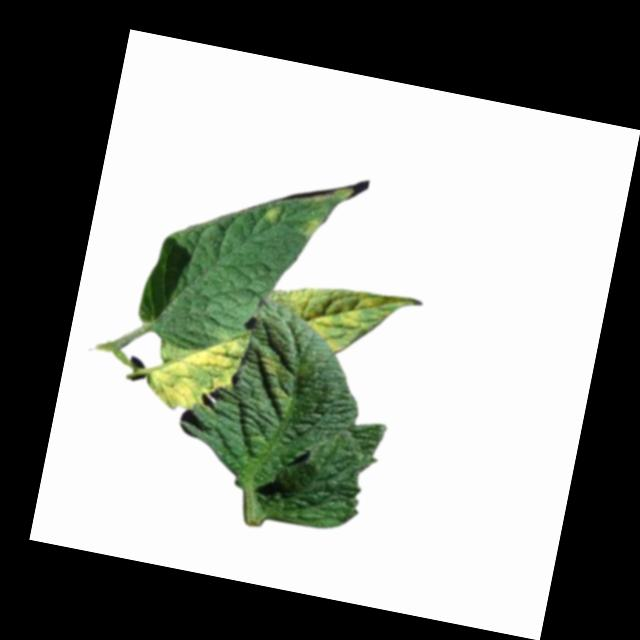Leaf_Mold: (266, 272, 422, 368), (142, 318, 244, 420), (253, 353, 288, 382), (257, 203, 285, 228), (298, 214, 322, 242)
